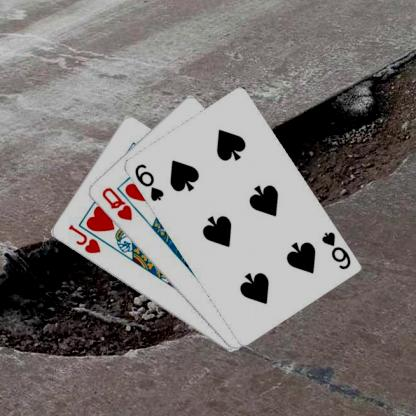6S: (318, 229, 352, 271), (131, 161, 165, 202)
JH: (65, 222, 102, 255)
QH: (99, 184, 133, 222)
